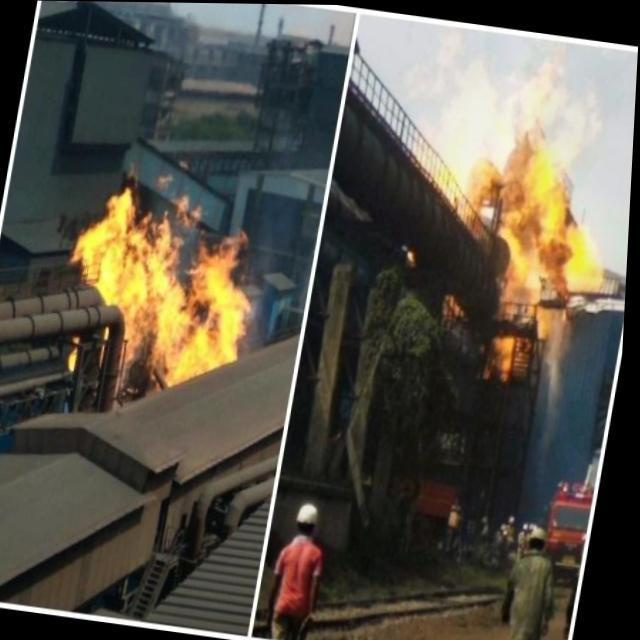fire: (405, 53, 638, 396), (39, 175, 291, 422)
